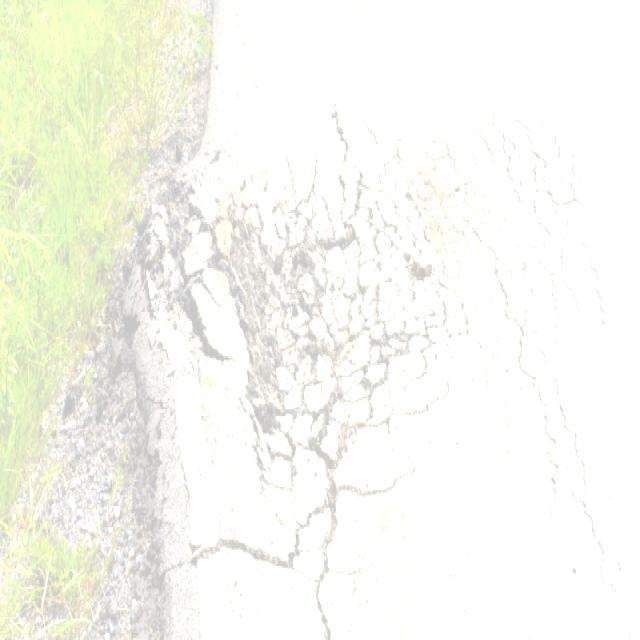Pothole: (79, 146, 413, 634)
